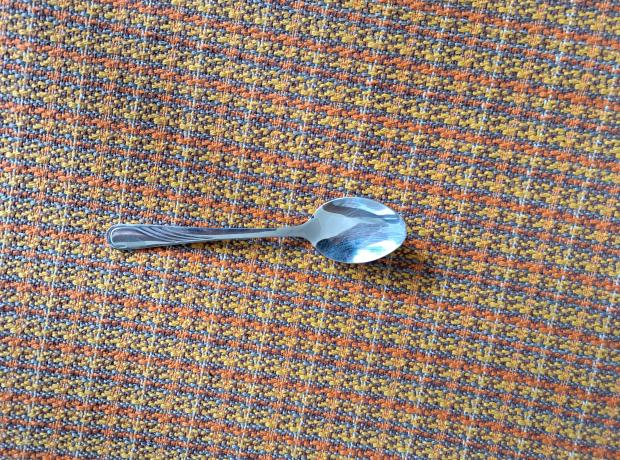metal: (102, 192, 410, 268)
